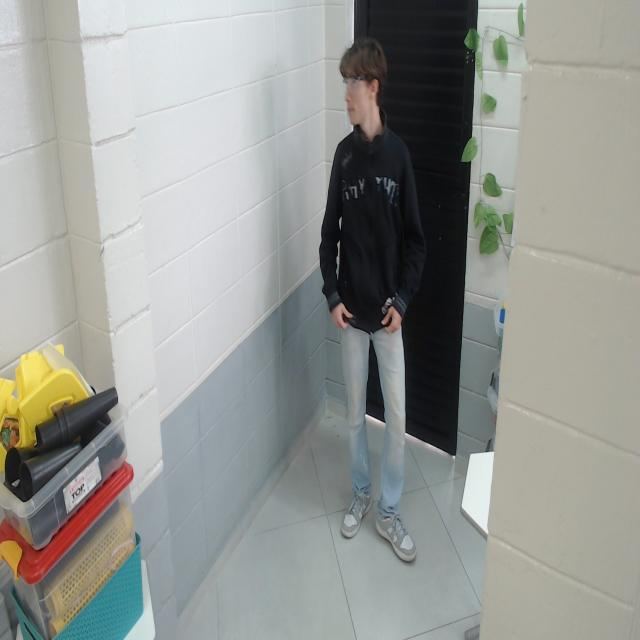oculos-epi: (343, 77, 362, 97)
